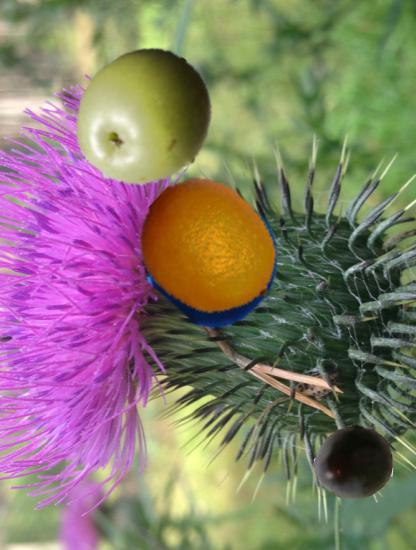Apple: (72, 46, 217, 191)
Huckleberry: (147, 190, 281, 324)
Lemon: (136, 176, 285, 325)
Plum: (314, 423, 394, 503)
